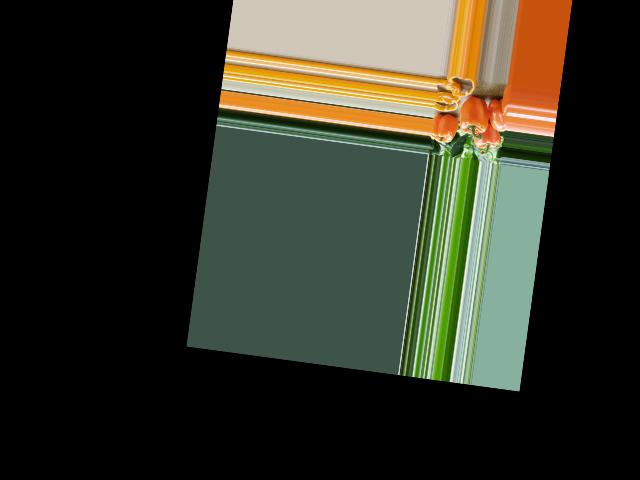bell_pepper: (485, 96, 509, 133)
